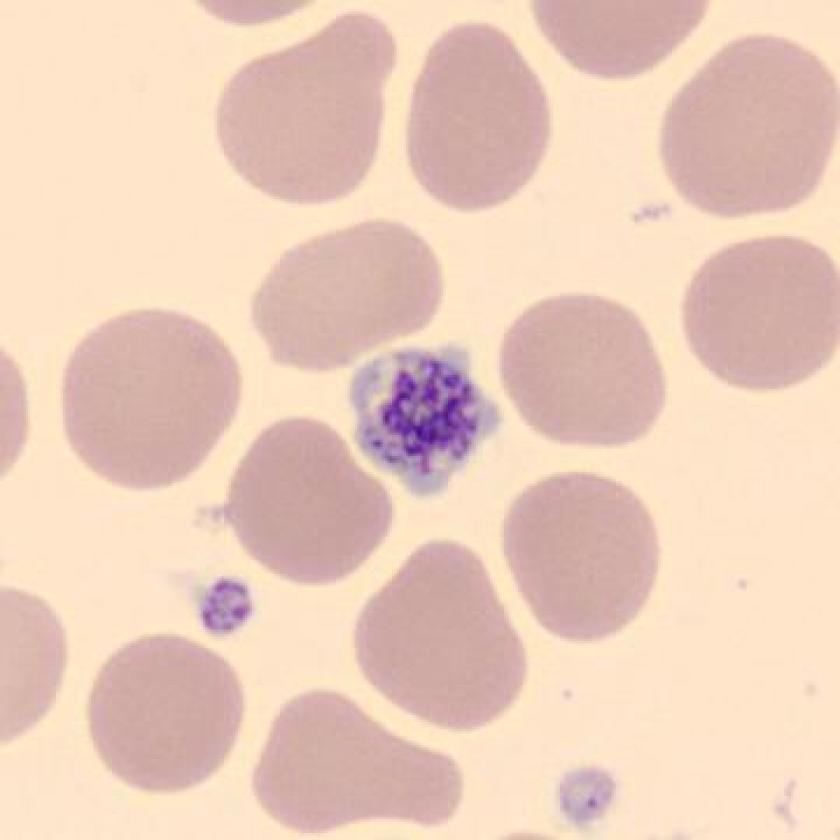platelets: (344, 344, 514, 515), (185, 568, 267, 649), (552, 753, 619, 834)
